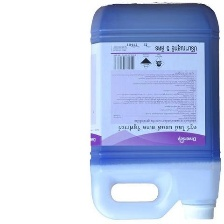cleaning_solution: (87, 0, 224, 222)
